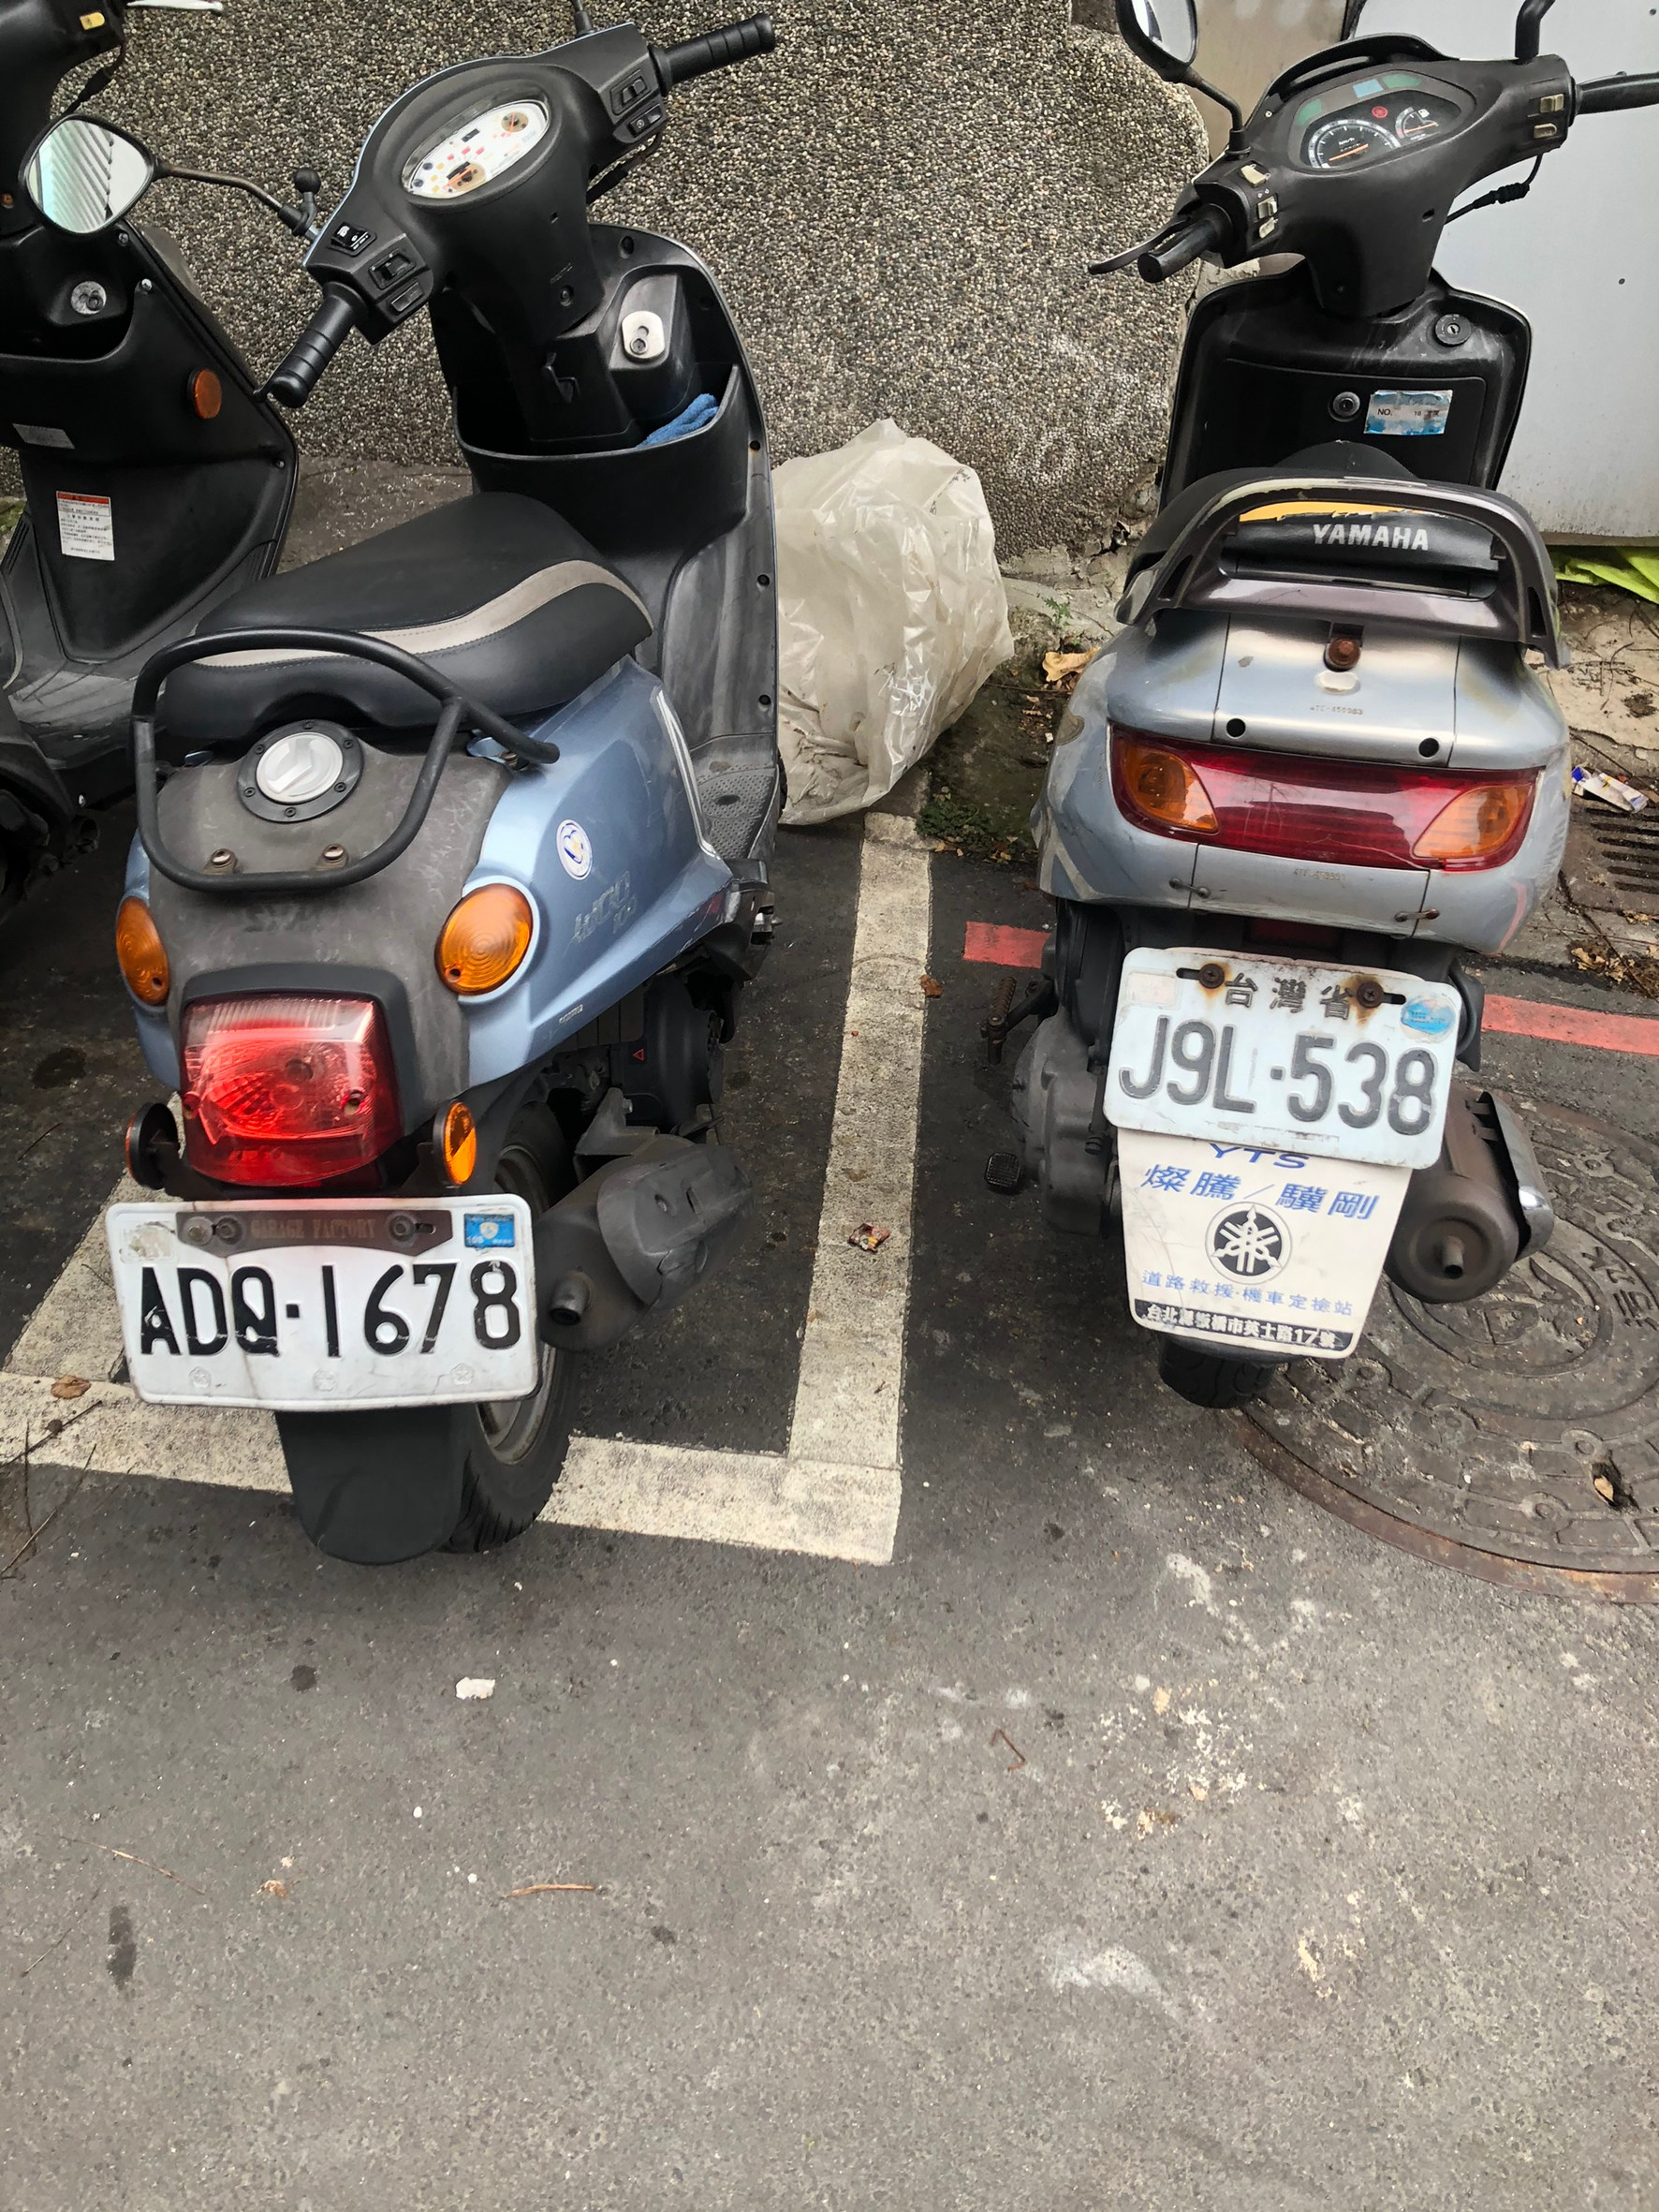LP: (98, 1198, 545, 1410), (1108, 953, 1464, 1149)
